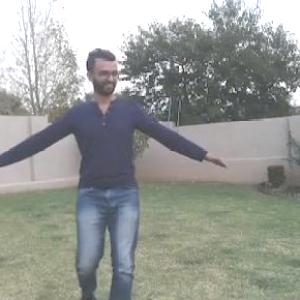land: (1, 35, 234, 299)
